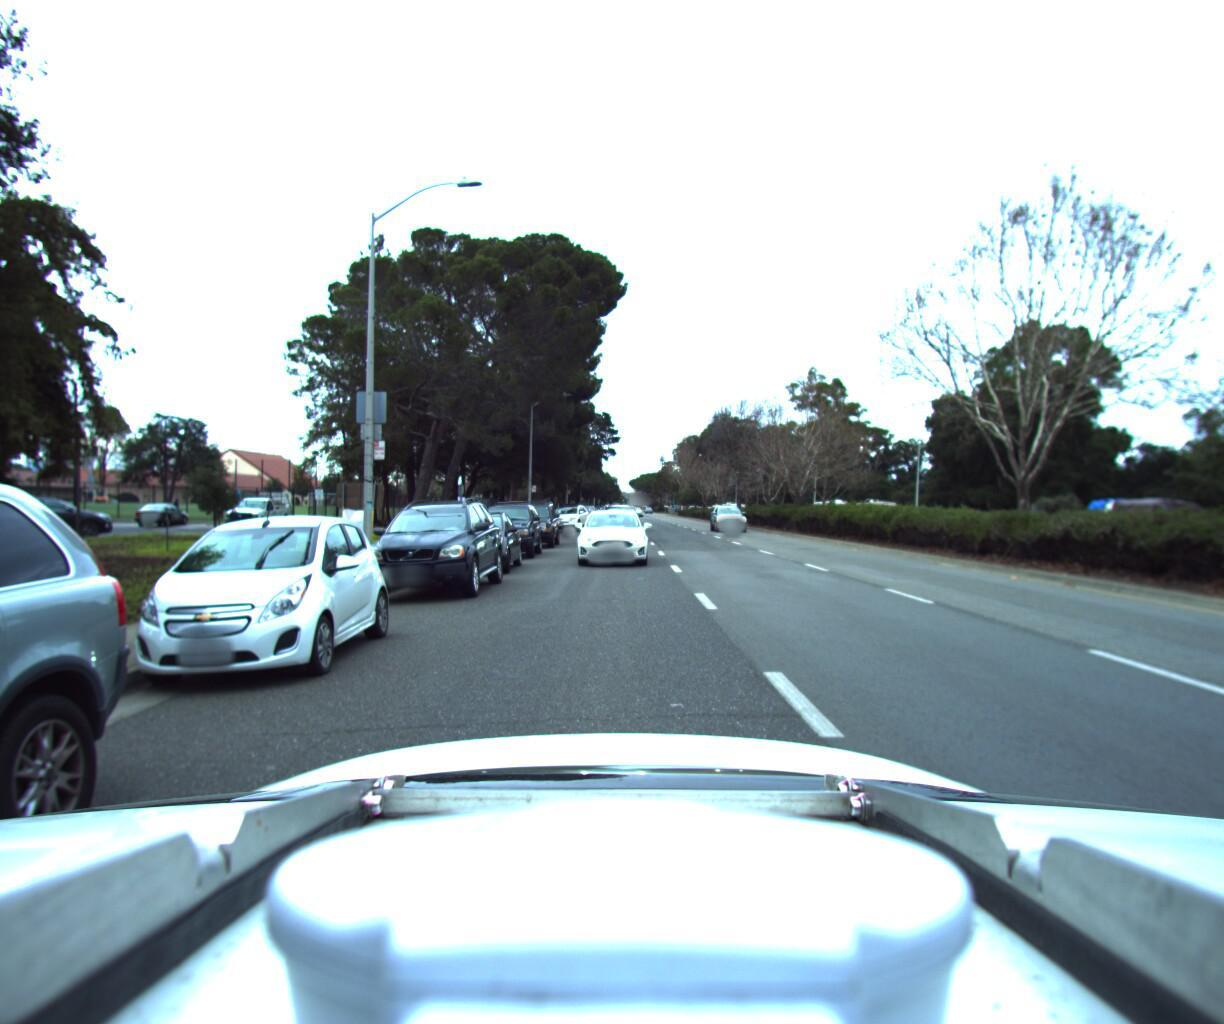car: (0, 0, 165, 1024), (99, 505, 395, 691), (345, 485, 506, 607), (427, 502, 524, 573), (467, 490, 545, 552), (574, 500, 648, 562), (498, 488, 559, 543), (542, 495, 591, 524), (707, 496, 748, 526)
other_vehicle: (1074, 485, 1209, 554), (849, 488, 898, 523)
